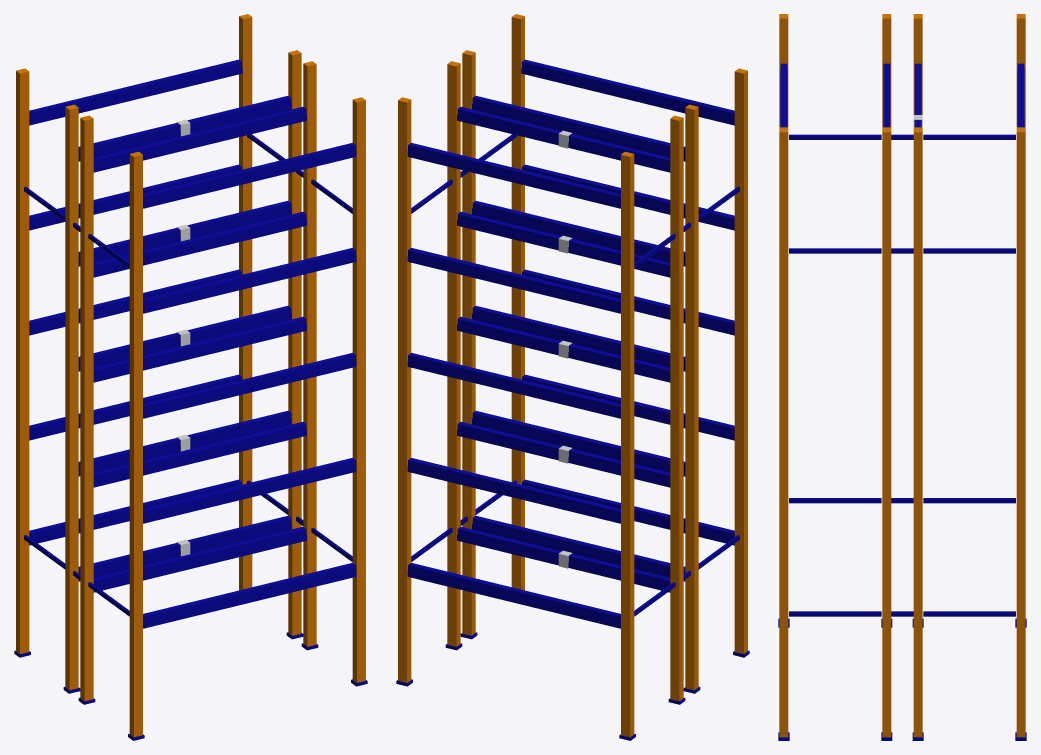
The model's file is high-duty-C25-5-pair.glb.
3 renders of one model, left to right at view 1: azimuth 30°, elevation 25°; view 2: azimuth 150°, elevation 25°; view 3: azimuth 270°, elevation 25°, orthographic. The views are drawn at different scales.
Visible parts, largest first — view 1: group2_geometry_0, group2_geometry_4, group1_geometry_4, group1_geometry_0, group2_geometry_2, group2_geometry_6, group1_geometry_2, group1_geometry_6, group2_geometry_8, group2_geometry_12, group2_geometry_16, group2_geometry_20 (+32 smaller); view 2: group1_geometry_4, group1_geometry_0, group2_geometry_0, group2_geometry_4, group1_geometry_6, group1_geometry_2, group2_geometry_6, group2_geometry_2, group1_geometry_10, group1_geometry_15, group1_geometry_20, group1_geometry_25 (+32 smaller); view 3: group1_geometry_2, group1_geometry_6, group2_geometry_2, group2_geometry_6, group2_geometry_4, group1_geometry_4, group2_geometry_0, group1_geometry_0, group1_geometry_33, group1_geometry_34, group1_geometry_35, group1_geometry_36 (+8 smaller).
Boxes of the visible parts, x1=… form: group2_geometry_0: x1=129, y1=151, x2=142, y2=737; group2_geometry_4: x1=80, y1=115, x2=93, y2=701; group1_geometry_4: x1=16, y1=68, x2=29, y2=653; group1_geometry_0: x1=65, y1=104, x2=78, y2=690; group2_geometry_2: x1=352, y1=97, x2=365, y2=682; group2_geometry_6: x1=303, y1=61, x2=316, y2=646; group1_geometry_2: x1=288, y1=50, x2=301, y2=635; group1_geometry_6: x1=239, y1=14, x2=252, y2=590; group2_geometry_8: x1=143, y1=563, x2=355, y2=622; group2_geometry_12: x1=143, y1=458, x2=355, y2=517; group2_geometry_16: x1=143, y1=353, x2=355, y2=412; group2_geometry_20: x1=143, y1=248, x2=355, y2=307; group1_geometry_4: x1=621, y1=151, x2=634, y2=737; group1_geometry_0: x1=670, y1=115, x2=683, y2=701; group2_geometry_0: x1=734, y1=68, x2=747, y2=653; group2_geometry_4: x1=685, y1=104, x2=698, y2=690; group1_geometry_6: x1=398, y1=97, x2=411, y2=682; group1_geometry_2: x1=447, y1=61, x2=460, y2=646; group2_geometry_6: x1=462, y1=50, x2=475, y2=635; group2_geometry_2: x1=511, y1=14, x2=524, y2=590; group1_geometry_10: x1=408, y1=563, x2=620, y2=622; group1_geometry_15: x1=408, y1=458, x2=620, y2=517; group1_geometry_20: x1=408, y1=353, x2=620, y2=412; group1_geometry_25: x1=408, y1=248, x2=620, y2=307; group1_geometry_2: x1=913, y1=127, x2=922, y2=737; group1_geometry_6: x1=1016, y1=127, x2=1025, y2=737; group2_geometry_2: x1=779, y1=127, x2=788, y2=737; group2_geometry_6: x1=882, y1=127, x2=891, y2=737; group2_geometry_4: x1=882, y1=14, x2=891, y2=127; group1_geometry_4: x1=1016, y1=14, x2=1025, y2=127; group2_geometry_0: x1=779, y1=14, x2=788, y2=127; group1_geometry_0: x1=913, y1=14, x2=922, y2=114; group1_geometry_33: x1=923, y1=498, x2=1015, y2=503; group1_geometry_34: x1=923, y1=134, x2=1015, y2=139; group1_geometry_35: x1=923, y1=611, x2=1015, y2=616; group1_geometry_36: x1=923, y1=248, x2=1015, y2=253.
Size of the model in its own units: 2520 by 6000 by 2220.
